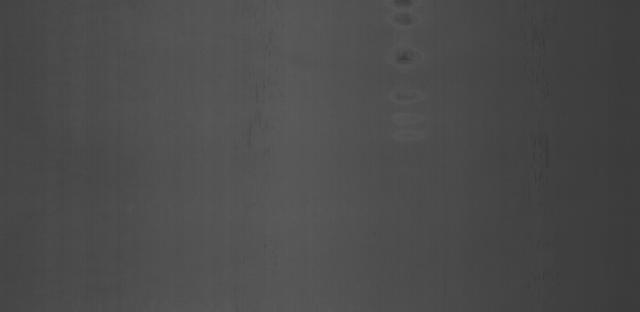water_spot: (386, 7, 432, 150)
